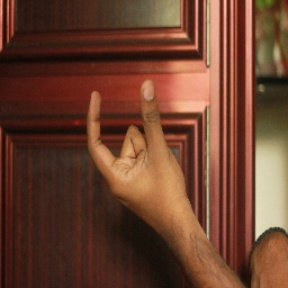U: (69, 75, 185, 204)
